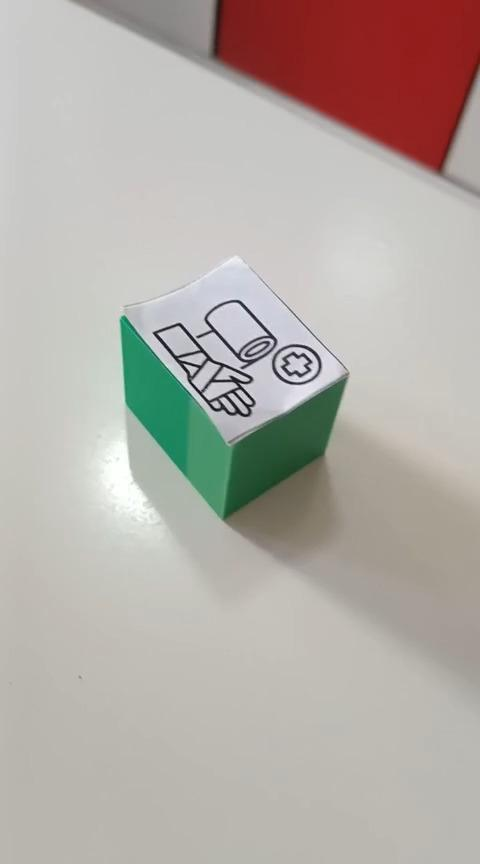Bandages: (118, 253, 350, 521)
